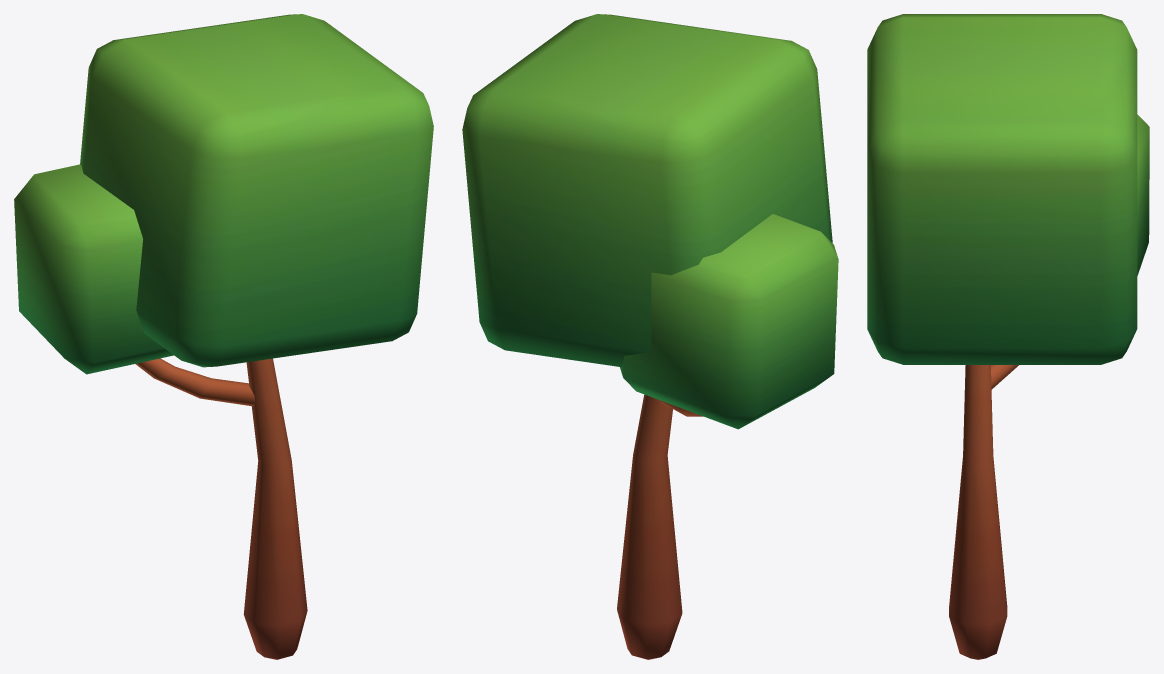
Rendered from tree_2_a_color1.d8156cb9.glb.
3 renders of one model, left to right at view 1: azimuth 30°, elevation 25°; view 2: azimuth 150°, elevation 25°; view 3: azimuth 270°, elevation 25°, orthographic. The views are drawn at different scales.
Visible parts, largest first — view 1: Tree_2_A_Color1; view 2: Tree_2_A_Color1; view 3: Tree_2_A_Color1.
Part boxes in pixels (x1,y1,x2,y2): Tree_2_A_Color1: (14,14,433,659); Tree_2_A_Color1: (462,14,838,659); Tree_2_A_Color1: (867,14,1149,659).
Bounding box in the file's own units: 2.6 × 4.67 × 2.
1 material, 1 textured.
